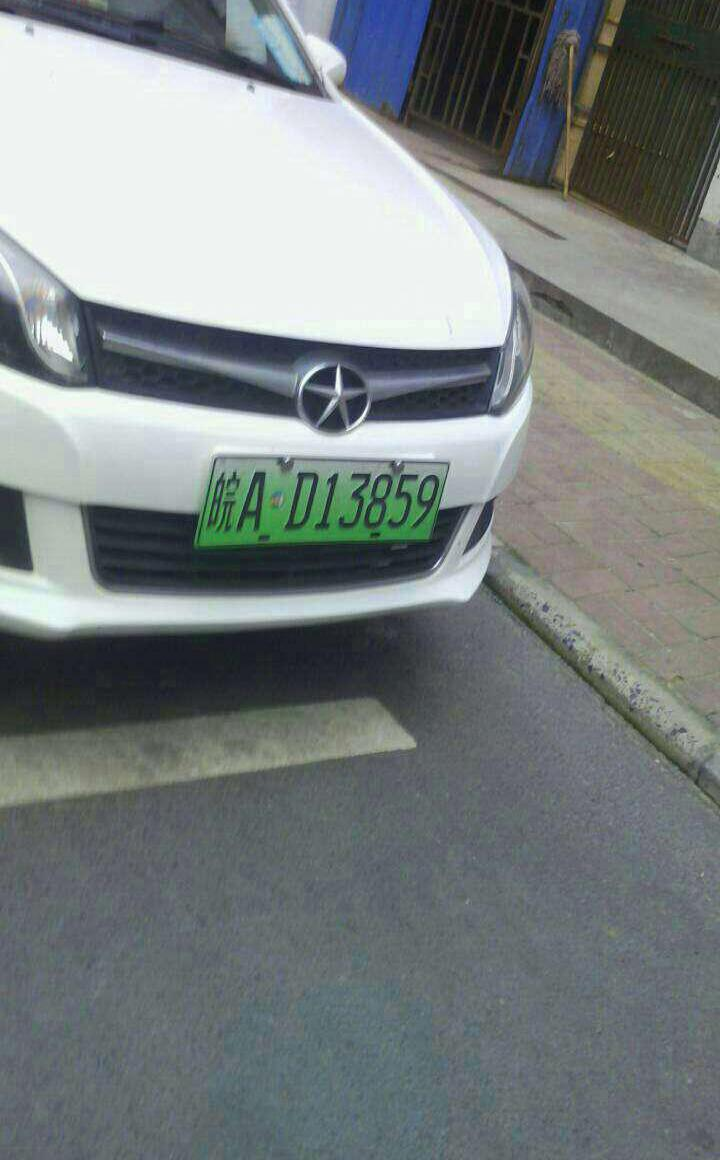car: (207, 451, 464, 552)
